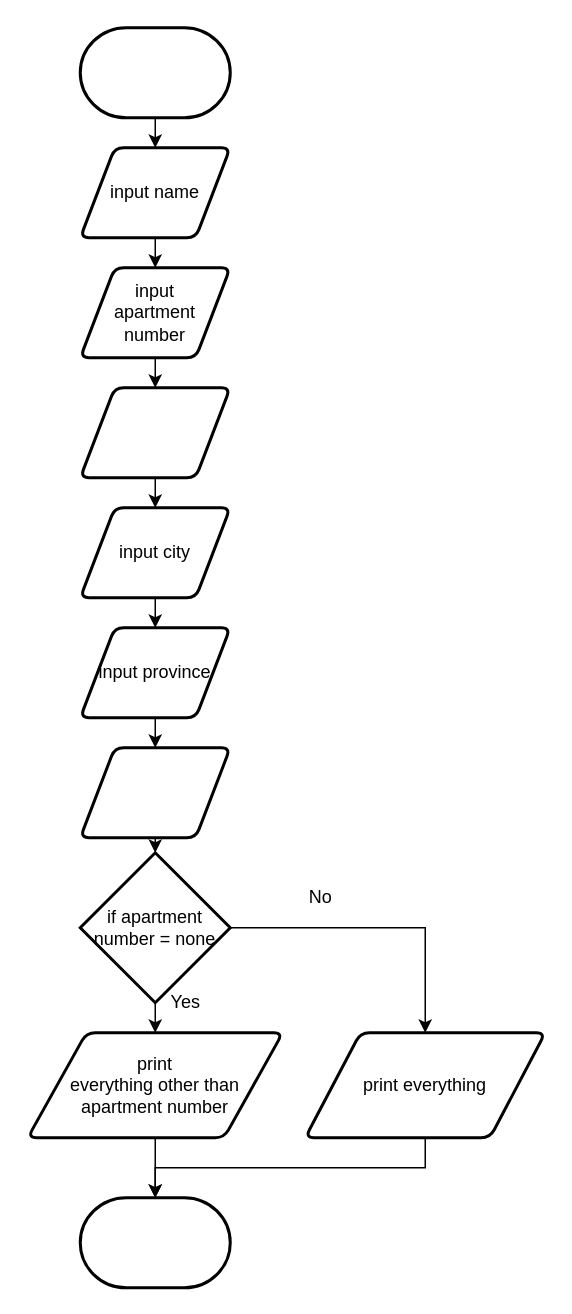
This 572x1314 diagram has some shape labels left out. Here are the shapes that lost their labels. From the top down, the centre of each, then its label:
the point at 154,72: Start
the point at 154,432: input street
the point at 154,792: input postal
the point at 154,1242: Stop
